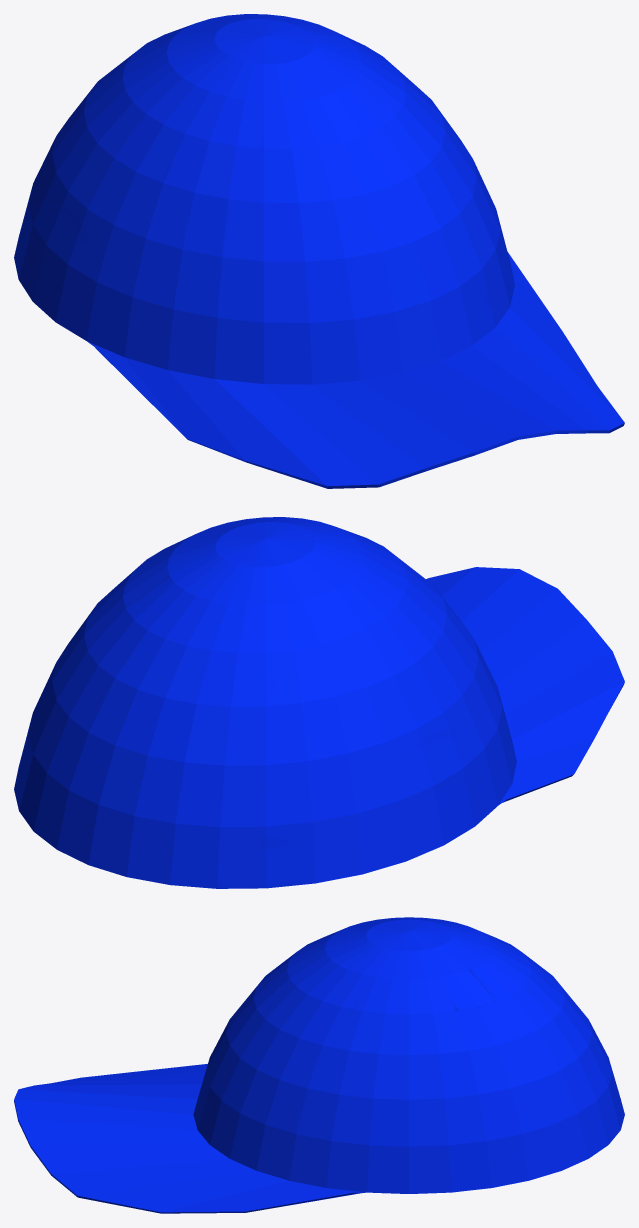
Rendered from hat.fbx.
The picture shows the model from 3 angles, top to bottom: view 1: azimuth 30°, elevation 25°; view 2: azimuth 150°, elevation 25°; view 3: azimuth 270°, elevation 25°; orthographic projection. The views are drawn at different scales.
Visible parts, largest first — view 1: Sphere; view 2: Sphere; view 3: Sphere.
Boxes of the visible parts, <box> form: Sphere: <box>14,14,624,488</box>; Sphere: <box>14,517,624,888</box>; Sphere: <box>14,917,624,1213</box>.
Size of the model in its own units: 273 by 174 by 443.
1 material, 1 textured.
